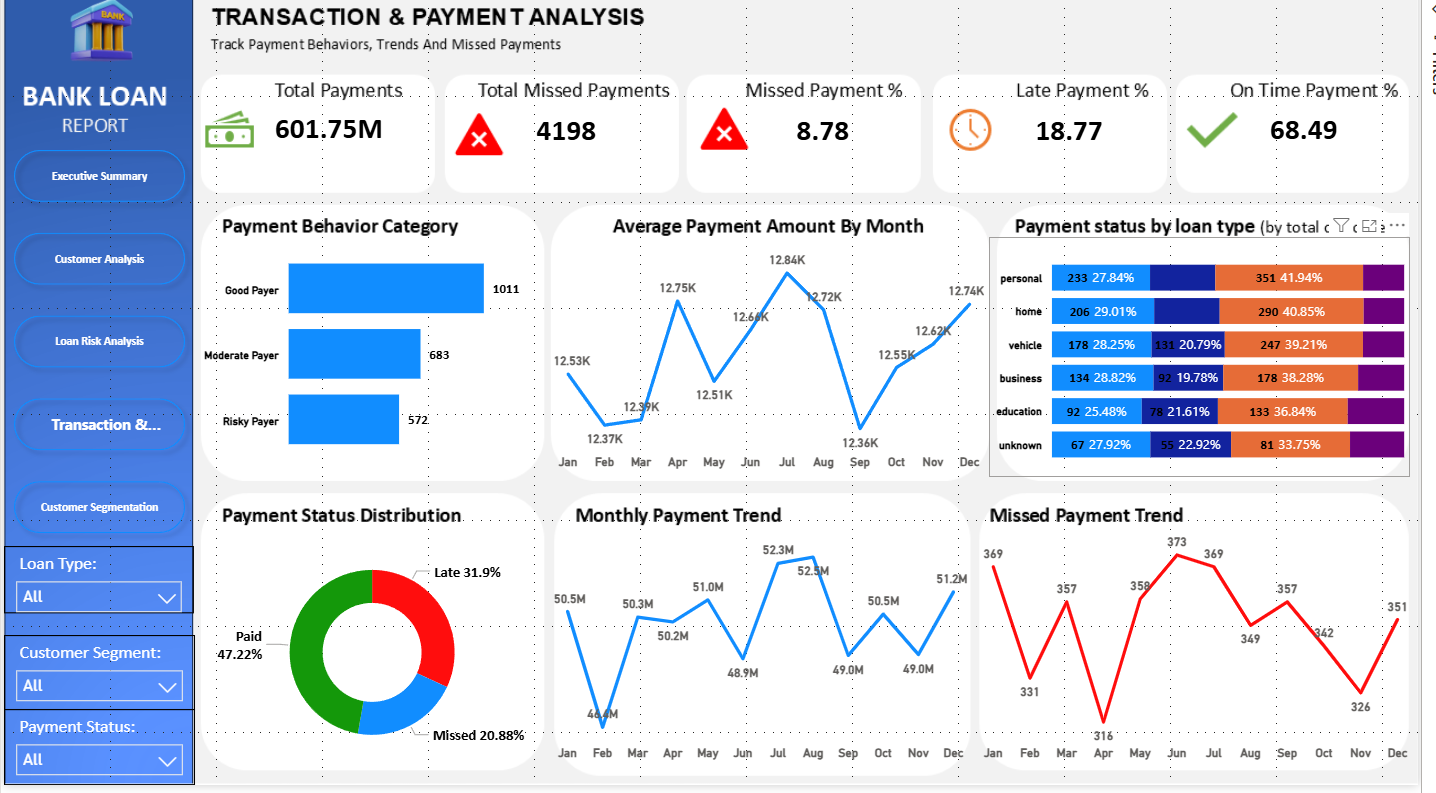

Layout of this report page (visuals, bound fields, positions):
{"tool":"powerbi","page":{"name":"Transaction & Payment Analysis","canvas":[1280,720],"ordinal":3},"visuals":[{"type":"card","fields":{"Values":["Sum(Final Datasets.Payment_Amount)"]},"box":[208.6,101.5,172.1,46.3],"z":0},{"type":"card","fields":{"Values":["Final Datasets.Missed Payments"]},"box":[411.6,104.8,196.4,43],"z":1000},{"type":"card","fields":{"Values":["Final Datasets.Missed Payment %"]},"box":[674.2,104.8,135.7,43],"z":2000},{"type":"card","fields":{"Values":["Final Datasets.Late Payments %"]},"box":[892.7,104.8,143.4,43],"z":3000},{"type":"card","fields":{"Values":["Final Datasets.On Time Payment %"]},"box":[1073.9,104.5,206.1,43.3],"z":4000},{"type":"clusteredBarChart","fields":{"Category":["Final Datasets.Payment_Behaviour_Category"],"Y":["Count(Final Datasets.Customer_ID)"]},"box":[175.1,210.8,307.8,231.5],"z":5000},{"type":"lineChart","fields":{"Category":["Final Datasets.Payment_Date Hierarchy.Month"],"Y":["Final Datasets.AVG Payment Amount"]},"box":[492.2,224,400,217.4],"z":6000},{"type":"donutChart","fields":{"Category":["Final Datasets.Payment_Status"],"Y":["Count(Final Datasets.Customer_ID)"]},"box":[175.1,494.1,317.2,210.8],"z":7000},{"type":"lineChart","fields":{"Category":["Final Datasets.Payment_Date Hierarchy.Month"],"Y":["Sum(Final Datasets.Payment_Amount)"]},"box":[492.2,486.6,384.9,218.4],"z":8000},{"type":"lineChart","fields":{"Category":["Final Datasets.Payment_Date Hierarchy.Month"],"Y":["Final Datasets.Missed Payments"]},"box":[877.2,479.1,402.8,225.9],"z":9000},{"type":"hundredPercentStackedBarChart","fields":{"Category":["Final Datasets.Loan_Type"],"Y":["Count(Final Datasets.Customer_ID)"],"Series":["Final Datasets.Payment_Status"]},"box":[892.2,224,381.2,217.4],"z":10000},{"type":"image","box":[9.3,0,159,72.3],"z":11000},{"type":"pageNavigator","box":[0,135.5,173.2,368],"z":12000},{"type":"slicer","fields":{"Values":["Final Datasets.Loan_Type"]},"box":[0,503.7,172.4,60.9],"z":13000},{"type":"slicer","fields":{"Values":["Final Datasets.Customer_Segment"]},"box":[0,584.2,173,67.9],"z":14000},{"type":"slicer","fields":{"Values":["Final Datasets.Customer_Segment"]},"box":[0,651.2,173,68.8],"z":15000}]}

Visuals, with their boxes on the page's 1280x720 design canvas (x1, y1, x2, y2). These are canvas units, not pixel positions in the 1436x793 screenshot, which may show the page scaled, cropped or inside an application window:
card - Sum(Final Datasets.Payment_Amount): box(209, 102, 381, 148)
card - Final Datasets.Missed Payments: box(412, 105, 608, 148)
card - Final Datasets.Missed Payment %: box(674, 105, 810, 148)
card - Final Datasets.Late Payments %: box(893, 105, 1036, 148)
card - Final Datasets.On Time Payment %: box(1074, 104, 1280, 148)
clusteredBarChart - Final Datasets.Payment_Behaviour_Category x Count(Final Datasets.Customer_ID): box(175, 211, 483, 442)
lineChart - Final Datasets.Payment_Date Hierarchy.Month x Final Datasets.AVG Payment Amount: box(492, 224, 892, 441)
donutChart - Final Datasets.Payment_Status x Count(Final Datasets.Customer_ID): box(175, 494, 492, 705)
lineChart - Final Datasets.Payment_Date Hierarchy.Month x Sum(Final Datasets.Payment_Amount): box(492, 487, 877, 705)
lineChart - Final Datasets.Payment_Date Hierarchy.Month x Final Datasets.Missed Payments: box(877, 479, 1280, 705)
hundredPercentStackedBarChart - Final Datasets.Loan_Type x Count(Final Datasets.Customer_ID): box(892, 224, 1273, 441)
image: box(9, 0, 168, 72)
pageNavigator: box(0, 136, 173, 504)
slicer - Final Datasets.Loan_Type: box(0, 504, 172, 565)
slicer - Final Datasets.Customer_Segment: box(0, 584, 173, 652)
slicer - Final Datasets.Customer_Segment: box(0, 651, 173, 720)
